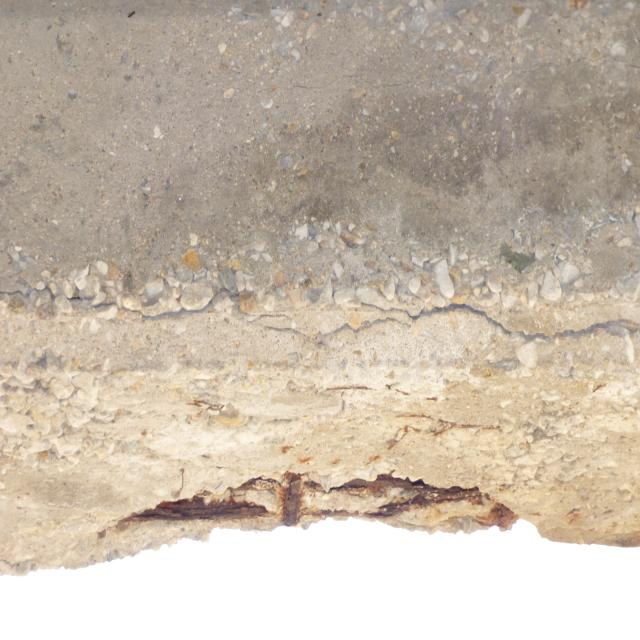corrosion: (112, 443, 543, 546)
